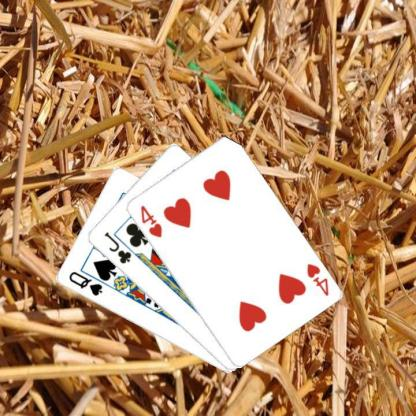4H: (303, 261, 330, 297), (137, 202, 163, 239)
JC: (101, 230, 132, 266)
QS: (66, 268, 103, 298)
